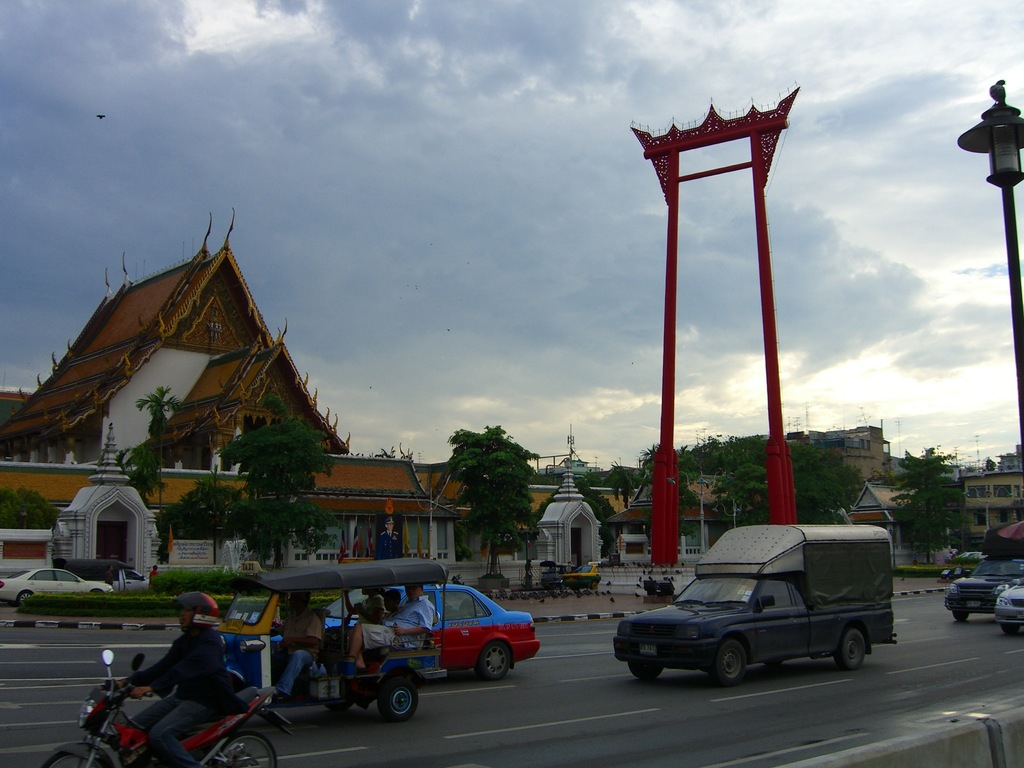Car: (241, 574, 539, 671), (945, 554, 1023, 623), (0, 568, 112, 603), (995, 577, 1023, 634)
